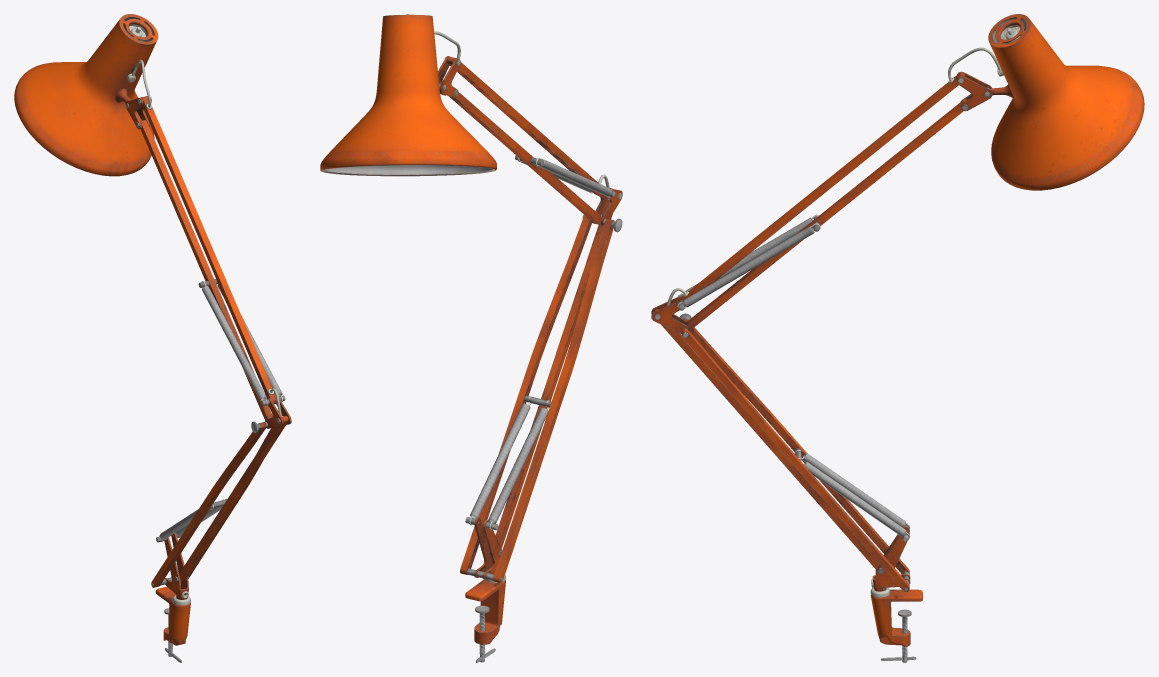
Rendered from desk_lamp_arm_01.glb.
3 views of the same model, side by side, from view 1: azimuth 30°, elevation 25°; view 2: azimuth 150°, elevation 25°; view 3: azimuth 270°, elevation 25° (orthographic). The views are drawn at different scales.
Parts seen in each view (by area): view 1: desk_lamp_arm_01; view 2: desk_lamp_arm_01; view 3: desk_lamp_arm_01.
Boxes of the visible parts, x1,y1,x2,y2 form: desk_lamp_arm_01: [14, 14, 291, 662]; desk_lamp_arm_01: [320, 14, 622, 662]; desk_lamp_arm_01: [651, 14, 1144, 662].
Bounding box in the file's own units: 0.2017 × 0.8926 × 0.6139.
Materials: 2 (2 with a texture image).
